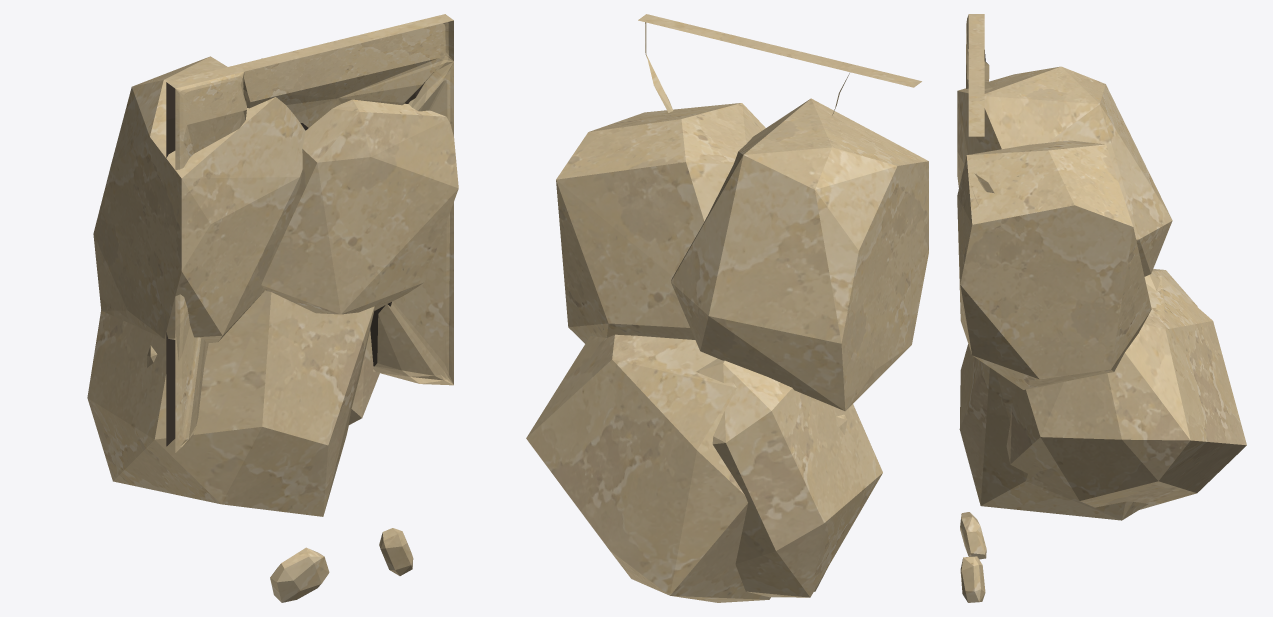
Rendered from ground_bottom_edge_08.glb.
3 views of the same model, side by side, from view 1: azimuth 30°, elevation 25°; view 2: azimuth 150°, elevation 25°; view 3: azimuth 270°, elevation 25° (orthographic). The views are drawn at different scales.
Visible parts, largest first — view 1: GroundBottomEdge08_Body; view 2: GroundBottomEdge08_Body; view 3: GroundBottomEdge08_Body.
Boxes of the visible parts, x1,y1,x2,y2 form: GroundBottomEdge08_Body: [87, 14, 458, 602]; GroundBottomEdge08_Body: [526, 14, 928, 602]; GroundBottomEdge08_Body: [957, 14, 1246, 602].
Bounding box in the file's own units: 1 × 1.86 × 1.04.
5 materials, 4 textured.
